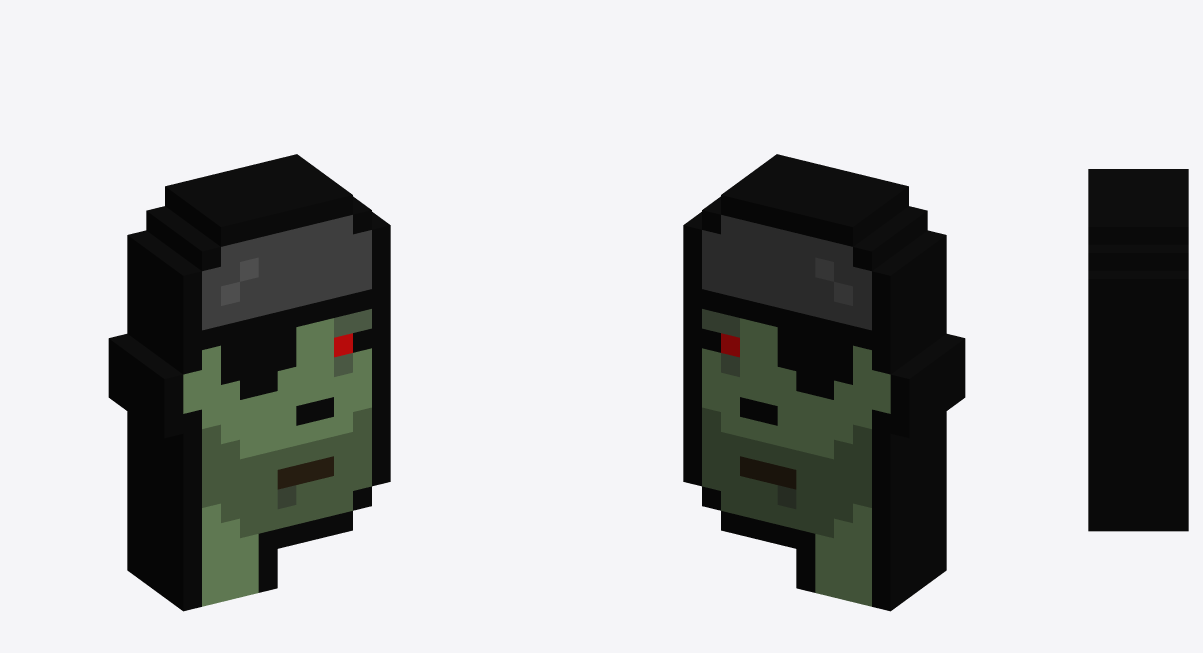
File: ARPunk1119.glb
3 views of the same model, side by side, from view 1: azimuth 30°, elevation 25°; view 2: azimuth 150°, elevation 25°; view 3: azimuth 270°, elevation 25° (orthographic). The views are drawn at different scales.
Visible parts, largest first — view 1: Mesh_266.008, Mesh_391.008, Mesh_436.008, Mesh_411.008, Mesh_242.008, Mesh_218.008, Mesh_127.008, Mesh_103.008, Mesh_151.008, Mesh_295.008, Mesh_31.008, Mesh_17.008 (+12 smaller); view 2: Mesh_266.008, Mesh_391.008, Mesh_436.008, Mesh_411.008, Mesh_242.008, Mesh_218.008, Mesh_127.008, Mesh_103.008, Mesh_151.008, Mesh_295.008, Mesh_31.008, Mesh_17.008 (+12 smaller); view 3: Mesh_399.008, Mesh_429.008, Mesh_450.008, Mesh_135.008, Mesh_159.008, Mesh_231.008, Mesh_255.008, Mesh_351.008, Mesh_111.008, Mesh_183.008, Mesh_207.008, Mesh_279.008 (+12 smaller).
Boxes of the visible parts, x1,y1,x2,y2 form: Mesh_266.008: (108,333,183,398); Mesh_391.008: (127,230,201,295); Mesh_436.008: (165,181,239,246); Mesh_411.008: (146,206,220,271); Mesh_242.008: (108,358,183,418); Mesh_218.008: (108,378,183,438); Mesh_127.008: (127,452,201,512); Mesh_103.008: (127,472,201,532); Mesh_151.008: (127,432,201,492); Mesh_295.008: (127,314,201,374); Mesh_31.008: (127,531,201,591); Mesh_17.008: (127,551,201,611); Mesh_266.008: (890,333,965,398); Mesh_391.008: (872,230,946,295); Mesh_436.008: (834,181,908,246); Mesh_411.008: (853,206,927,271); Mesh_242.008: (890,358,965,418); Mesh_218.008: (890,378,965,438); Mesh_127.008: (872,452,946,512); Mesh_103.008: (872,472,946,532); Mesh_151.008: (872,432,946,492); Mesh_295.008: (872,314,946,374); Mesh_31.008: (872,531,946,591); Mesh_17.008: (872,551,946,611); Mesh_399.008: (1088,270,1188,296); Mesh_429.008: (1088,244,1188,270); Mesh_450.008: (1088,218,1188,244); Mesh_135.008: (1088,474,1188,492); Mesh_159.008: (1088,456,1188,474); Mesh_231.008: (1088,403,1188,421); Mesh_255.008: (1088,385,1188,403); Mesh_351.008: (1088,314,1188,332); Mesh_111.008: (1088,492,1188,509); Mesh_183.008: (1088,439,1188,456); Mesh_207.008: (1088,421,1188,438); Mesh_279.008: (1088,368,1188,385).
Size of the model in its own units: 24 by 24 by 5.13.
1 material, 1 textured.
